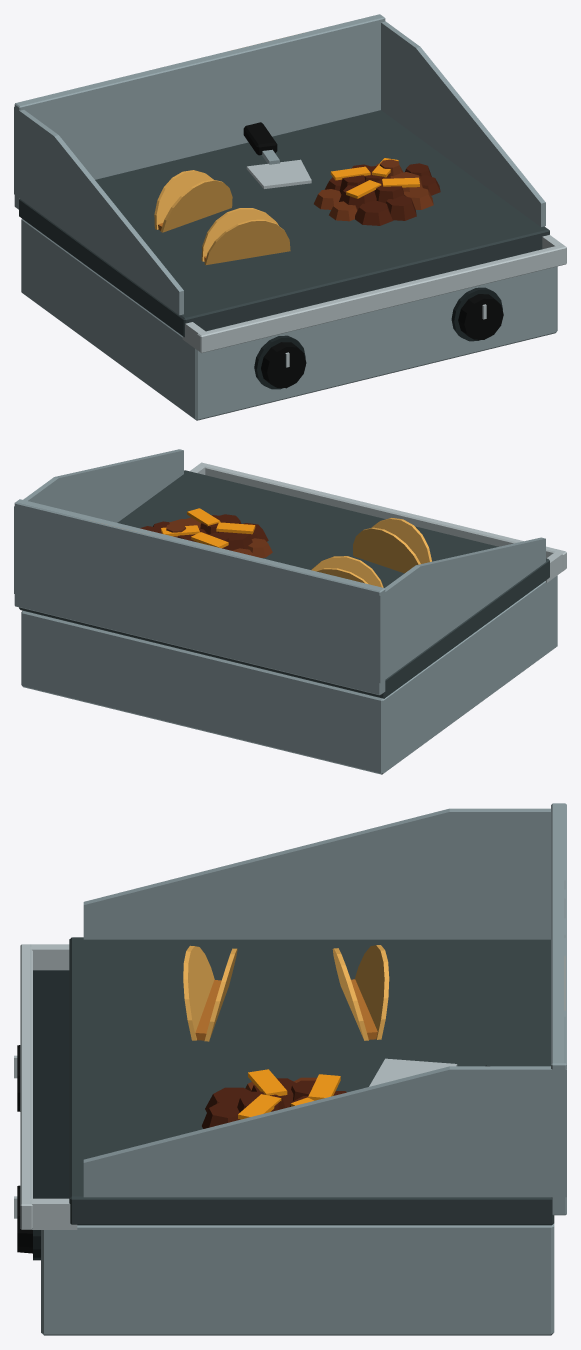
File: Griddle.fbx
3 views of the same model, one above another, from view 1: azimuth 30°, elevation 25°; view 2: azimuth 150°, elevation 25°; view 3: azimuth 270°, elevation 25° (orthographic). The views are drawn at different scales.
Visible parts, largest first — view 1: Griddle_Body; view 2: Griddle_Body; view 3: Griddle_Body.
Boxes of the visible parts, <box> form: Griddle_Body: <box>14,14,566,420</box>; Griddle_Body: <box>14,449,566,774</box>; Griddle_Body: <box>14,803,566,1335</box>.
Size of what is drawn, in the model's own units: 0.39 by 0.191 by 0.349.
1 material, 1 textured.
